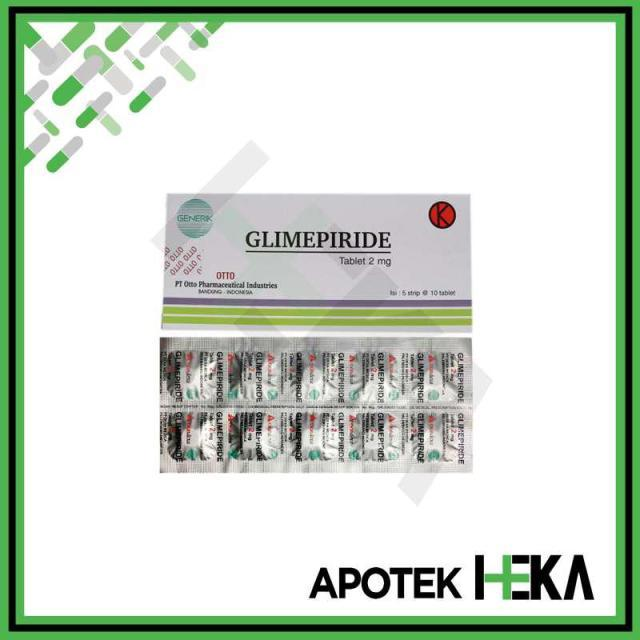drug-name: (244, 228, 392, 252)
